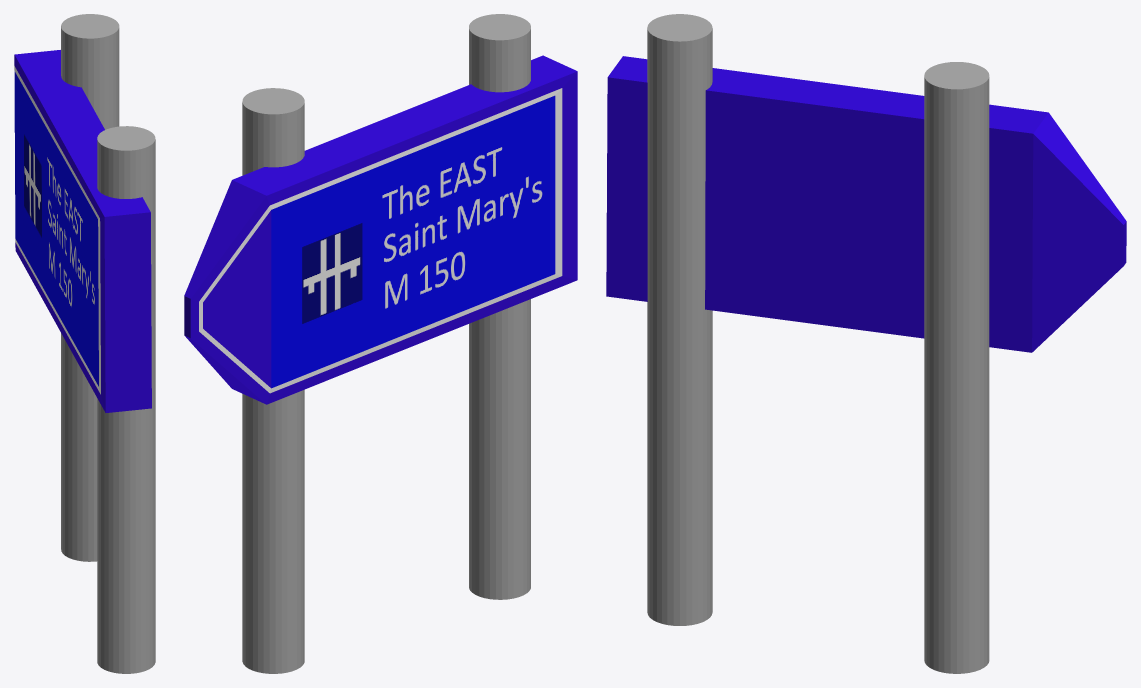
File: ChevronLeftHalifaxParkRoundabout1.fbx
3 renders of one model, left to right at view 1: azimuth 30°, elevation 25°; view 2: azimuth 150°, elevation 25°; view 3: azimuth 270°, elevation 25°, orthographic. The views are drawn at different scales.
Parts seen in each view (by area): view 1: Cube.030, Cylinder.002, Cylinder.001; view 2: Cube.030, Cylinder.002, Cylinder.001; view 3: Cube.030, Cylinder.001, Cylinder.002.
Boxes of the visible parts, bbox=[...] form: Cube.030: bbox=[14, 50, 151, 412]; Cylinder.002: bbox=[97, 126, 155, 673]; Cylinder.001: bbox=[61, 14, 119, 561]; Cube.030: bbox=[184, 55, 577, 404]; Cylinder.002: bbox=[469, 14, 530, 599]; Cylinder.001: bbox=[242, 88, 304, 673]; Cube.030: bbox=[606, 56, 1126, 352]; Cylinder.001: bbox=[924, 62, 989, 673]; Cylinder.002: bbox=[647, 14, 712, 625].
Bounding box in the file's own units: 120 × 374 × 302.
